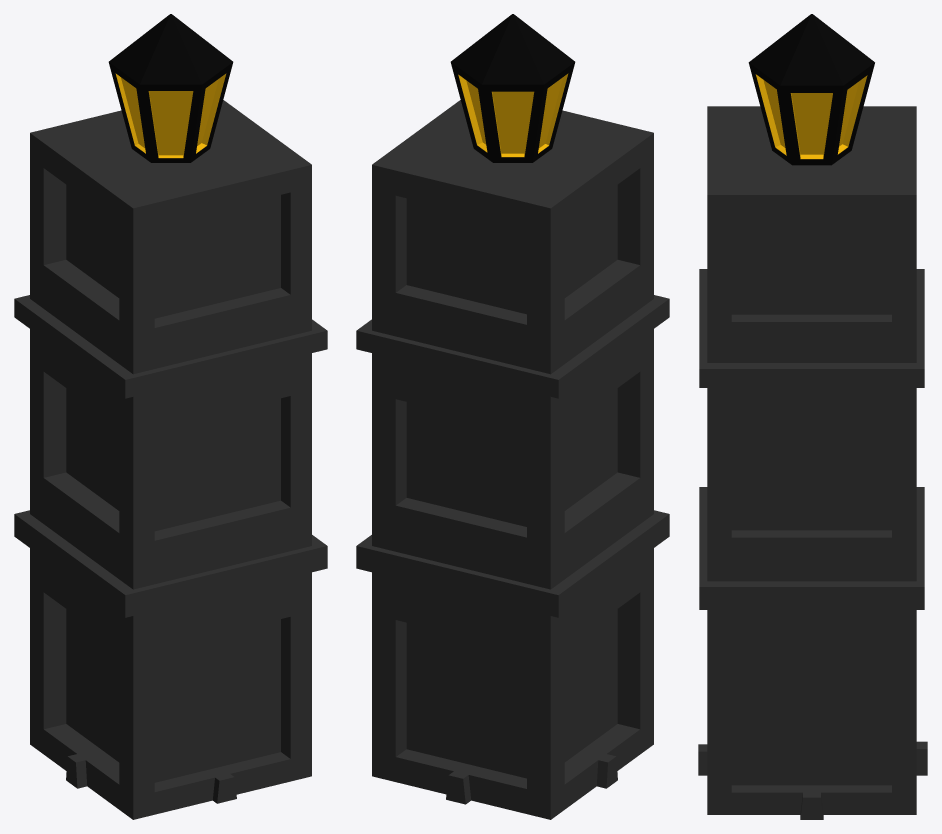
The model's file is coluna.fbx.
The picture shows the model from 3 angles, left to right: view 1: azimuth 30°, elevation 25°; view 2: azimuth 150°, elevation 25°; view 3: azimuth 270°, elevation 25°; orthographic projection.
Parts seen in each view (by area): view 1: Coluna; view 2: Coluna; view 3: Coluna.
Boxes of the visible parts, x1,y1,x2,y2 form: Coluna: (14,14,327,819); Coluna: (356,14,669,819); Coluna: (698,14,927,819).
Size of the model in its own units: 113 by 398 by 110.
